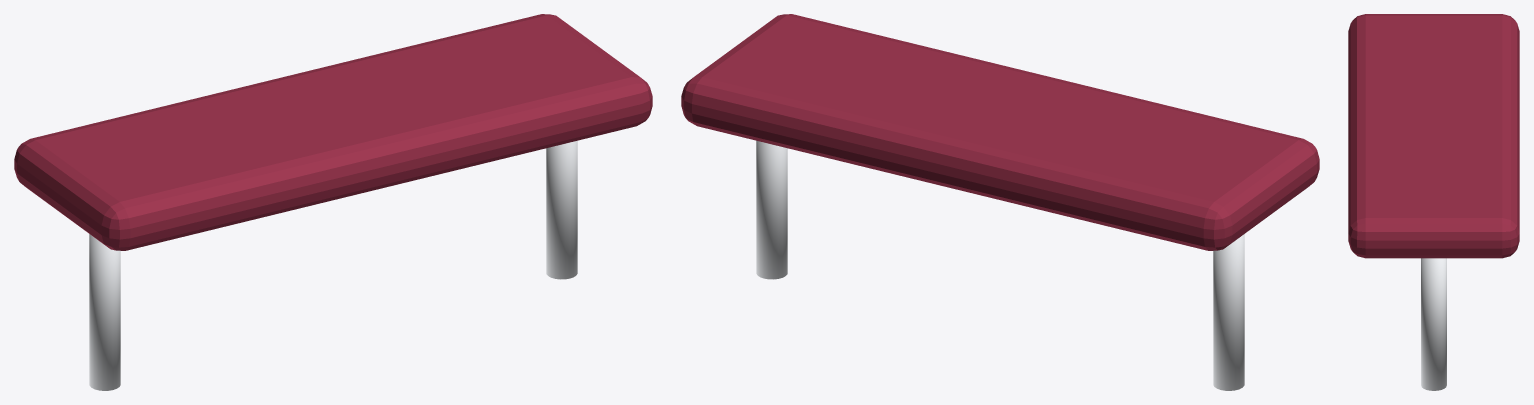
Rendered from bench_cushioned.glb.
The picture shows the model from 3 angles, left to right: view 1: azimuth 30°, elevation 25°; view 2: azimuth 150°, elevation 25°; view 3: azimuth 270°, elevation 25°; orthographic projection. The views are drawn at different scales.
Visible parts, largest first — view 1: GD_bench_cushioned__m1, GD_bench_cushioned__m0; view 2: GD_bench_cushioned__m1, GD_bench_cushioned__m0; view 3: GD_bench_cushioned__m1, GD_bench_cushioned__m0.
Part boxes in pixels (<box>): GD_bench_cushioned__m1: <box>14,14,652,250</box>; GD_bench_cushioned__m0: <box>89,140,577,390</box>; GD_bench_cushioned__m1: <box>681,14,1319,250</box>; GD_bench_cushioned__m0: <box>756,140,1244,390</box>; GD_bench_cushioned__m1: <box>1348,14,1519,258</box>; GD_bench_cushioned__m0: <box>1421,258,1446,390</box>.
Size of the model in its own units: 1.2 by 0.46 by 0.4.
